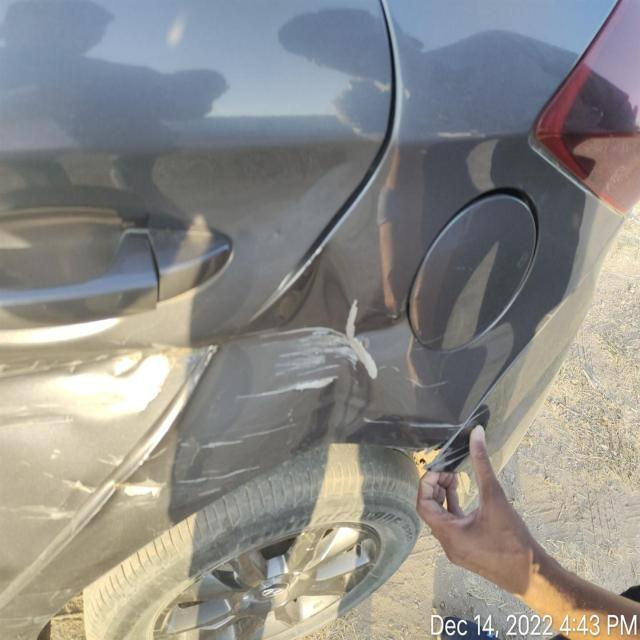damage: (125, 261, 410, 529), (4, 331, 178, 536), (425, 390, 504, 480)
